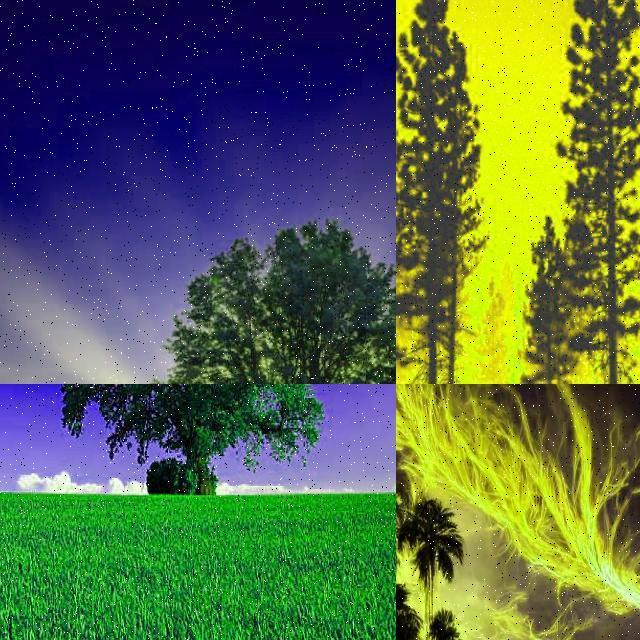tree: (144, 204, 396, 383), (48, 384, 316, 548), (396, 0, 488, 384), (559, 0, 640, 384), (396, 408, 484, 640), (396, 0, 448, 384), (519, 212, 573, 384), (396, 112, 416, 384), (443, 156, 465, 384), (474, 276, 510, 384), (498, 261, 518, 384)
